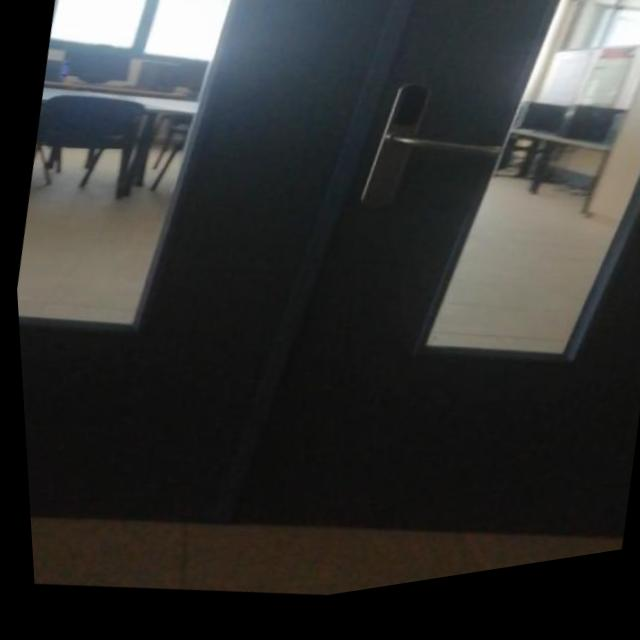door_handle: (374, 126, 512, 192)
